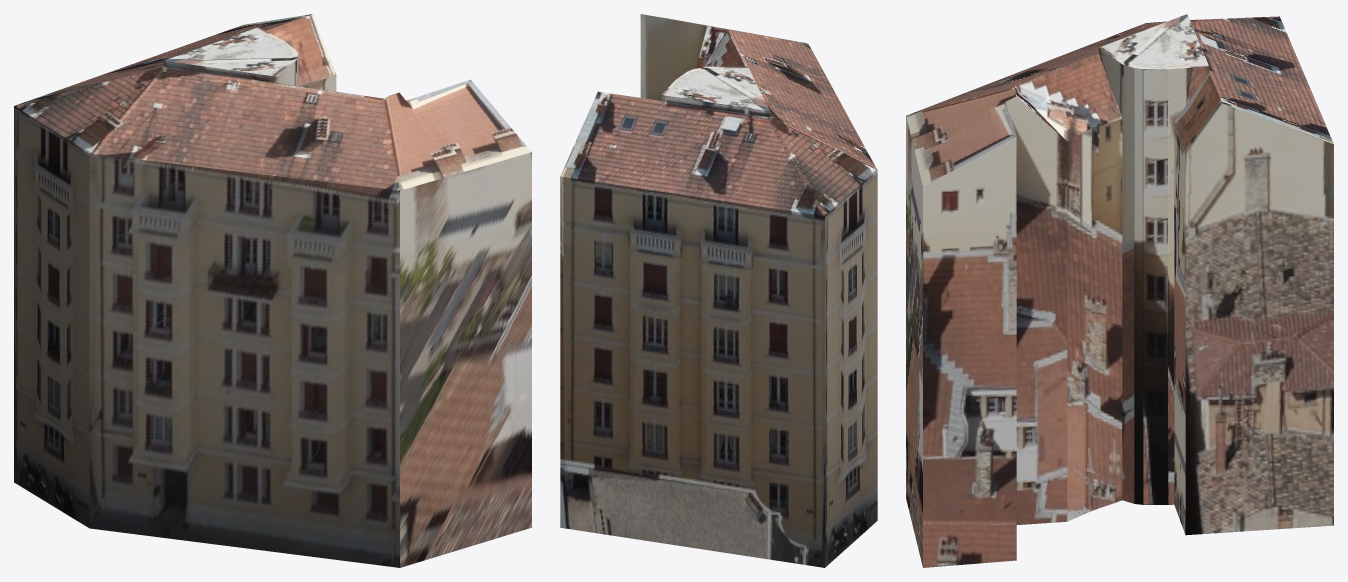
3 renders of one model, left to right at view 1: azimuth 30°, elevation 25°; view 2: azimuth 150°, elevation 25°; view 3: azimuth 270°, elevation 25°, orthographic. The views are drawn at different scales.
Visible parts, largest first — view 1: Z_UP; view 2: Z_UP; view 3: Z_UP.
Part boxes in pixels (bbox=[...]): Z_UP: bbox=[14, 14, 531, 567]; Z_UP: bbox=[560, 14, 877, 567]; Z_UP: bbox=[906, 14, 1333, 567].
Size of the model in its own units: 22.01 by 26.43 by 23.49.
Materials: 2 (1 with a texture image).
